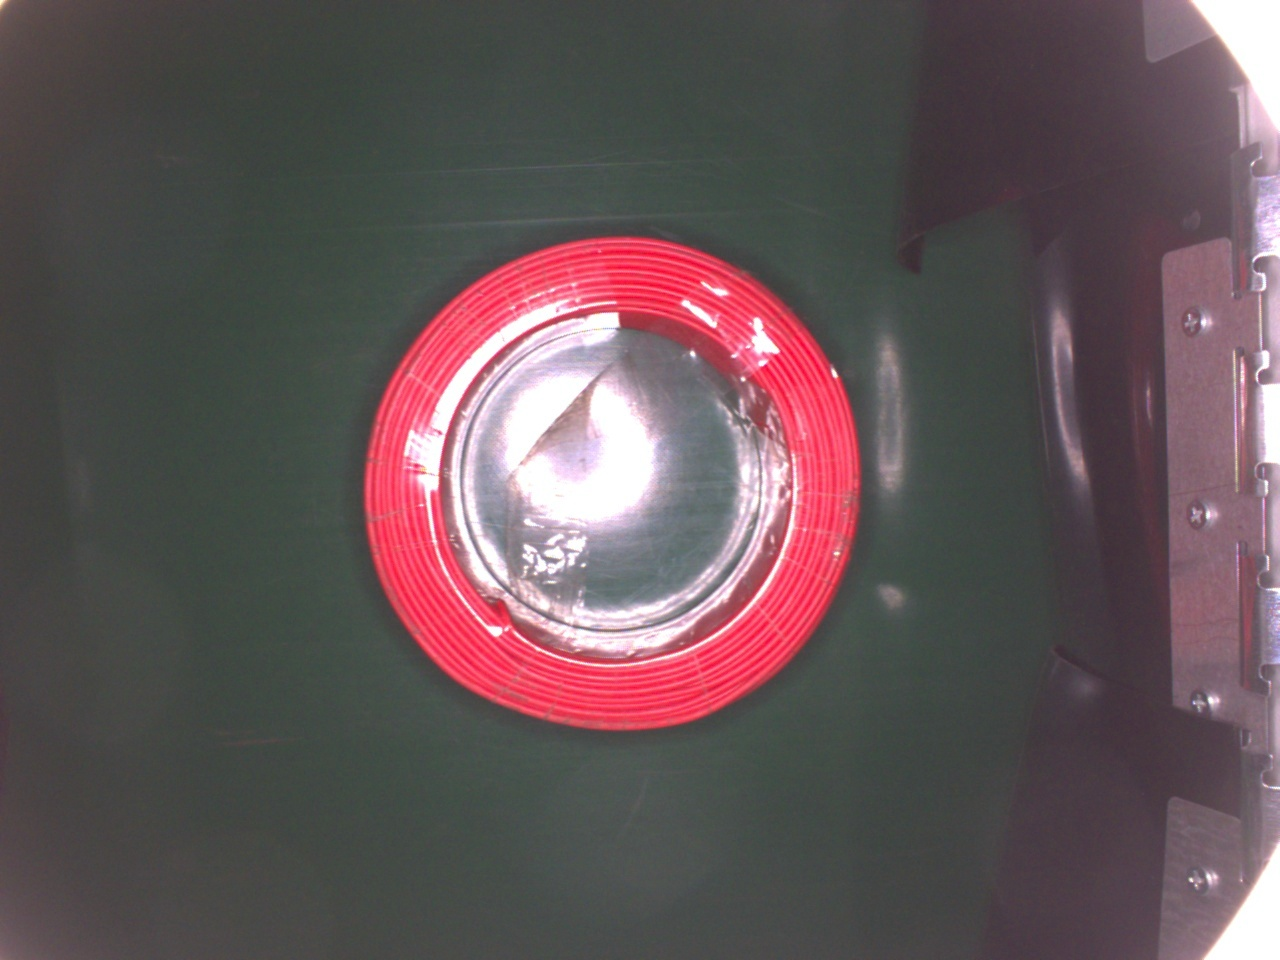red: (359, 229, 864, 733)
